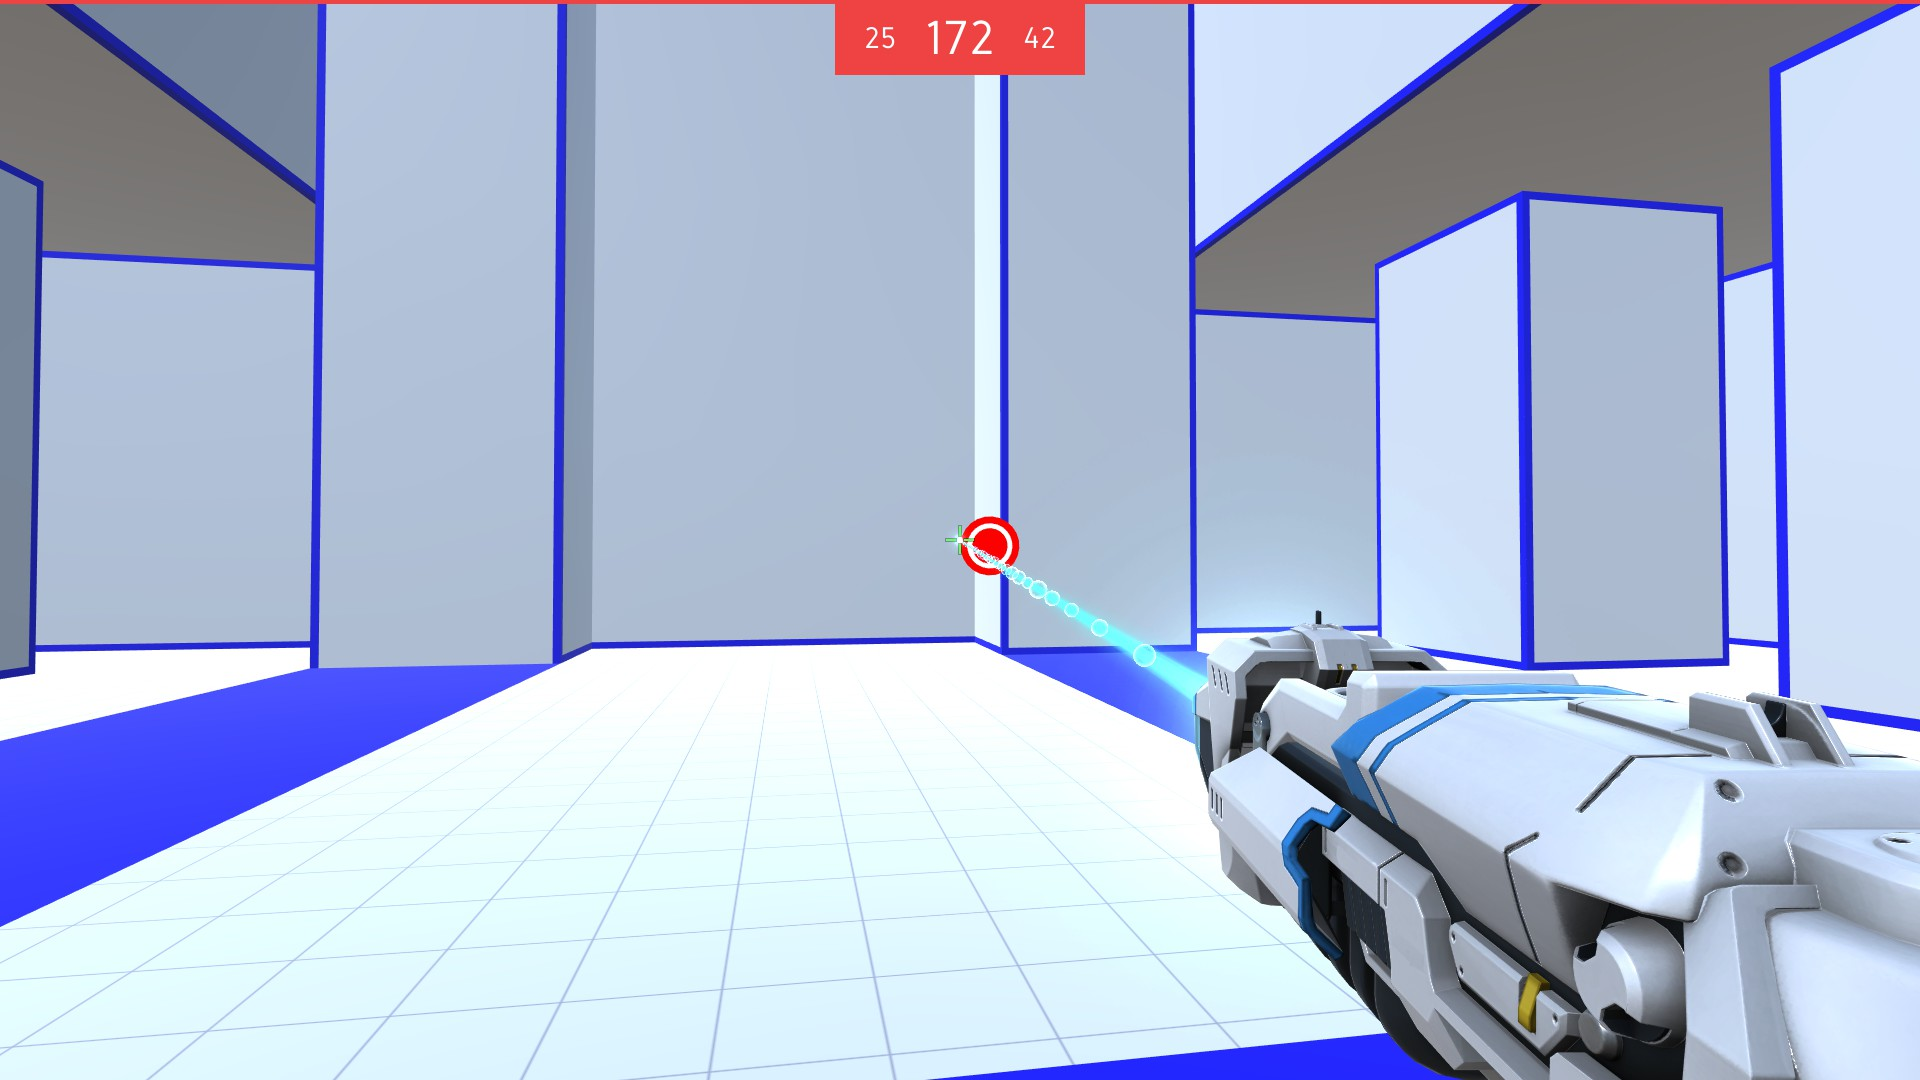target: (960, 516, 1025, 578)
